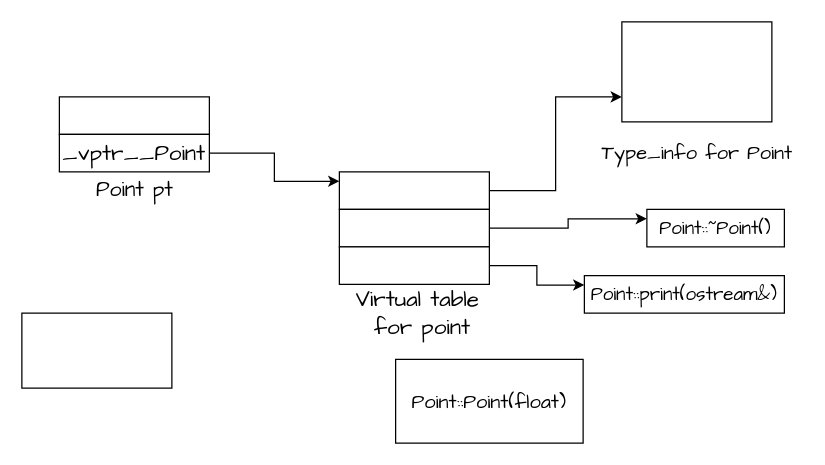
Image size: 825x465. Some labels were removed from this diagram. The shapes that lost their labels are listed below. From the top down, each one's box as (x1, y1, x2, y2) in pixels, then its label:
(58, 96, 209, 134): float x
(21, 312, 172, 388): static int Point:: _point_count;
